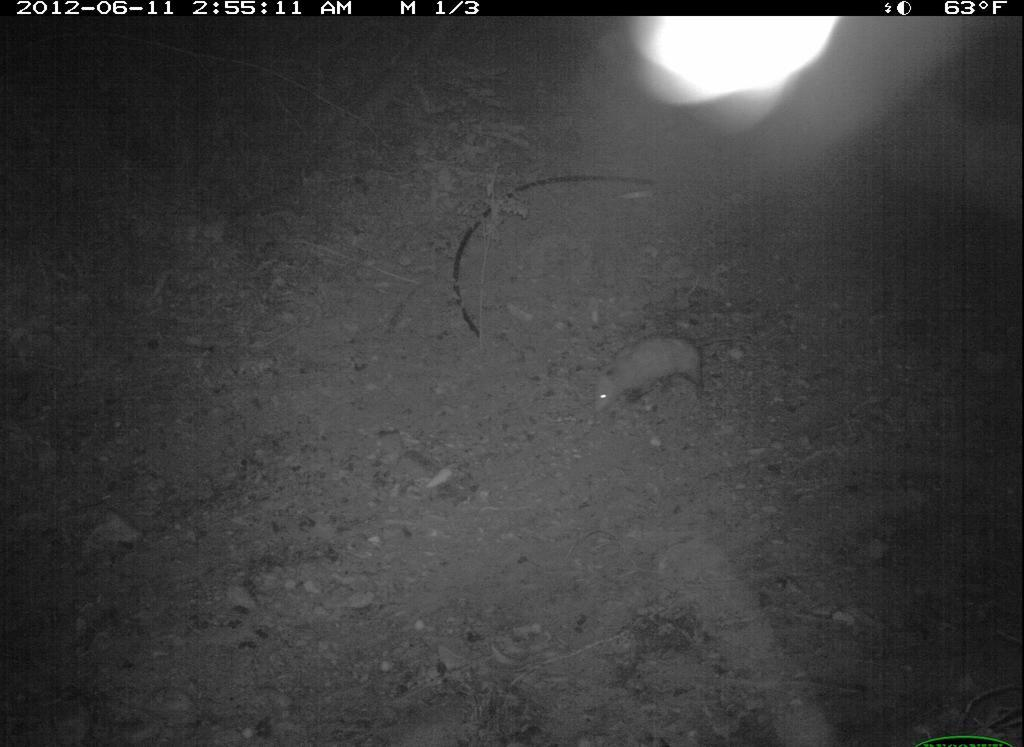opossum: (589, 329, 745, 420)
